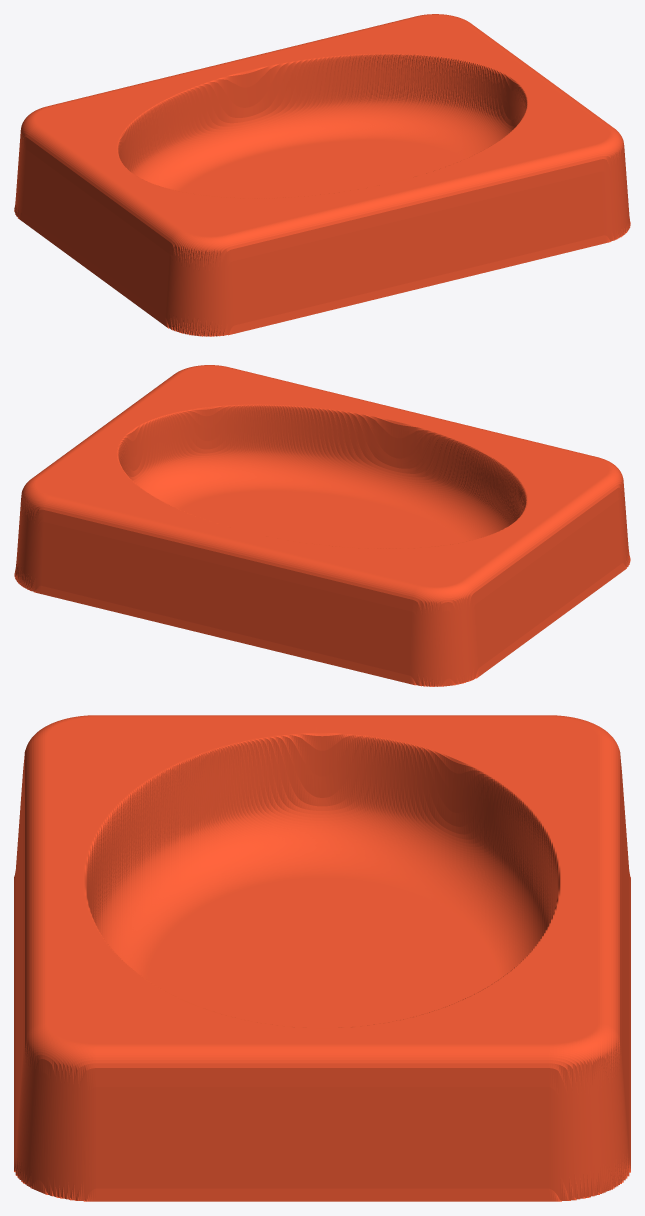
File: mold.glb
3 renders of one model, top to bottom at view 1: azimuth 30°, elevation 25°; view 2: azimuth 150°, elevation 25°; view 3: azimuth 270°, elevation 25°, orthographic. The views are drawn at different scales.
Parts seen in each view (by area): view 1: geometry_0; view 2: geometry_0; view 3: geometry_0.
Boxes of the visible parts, x1=… form: geometry_0: x1=14, y1=14, x2=630, y2=336; geometry_0: x1=14, y1=365, x2=630, y2=686; geometry_0: x1=14, y1=715, x2=630, y2=1201.
Bounding box in the file's own units: 0.0924 × 0.0175 × 0.068.
